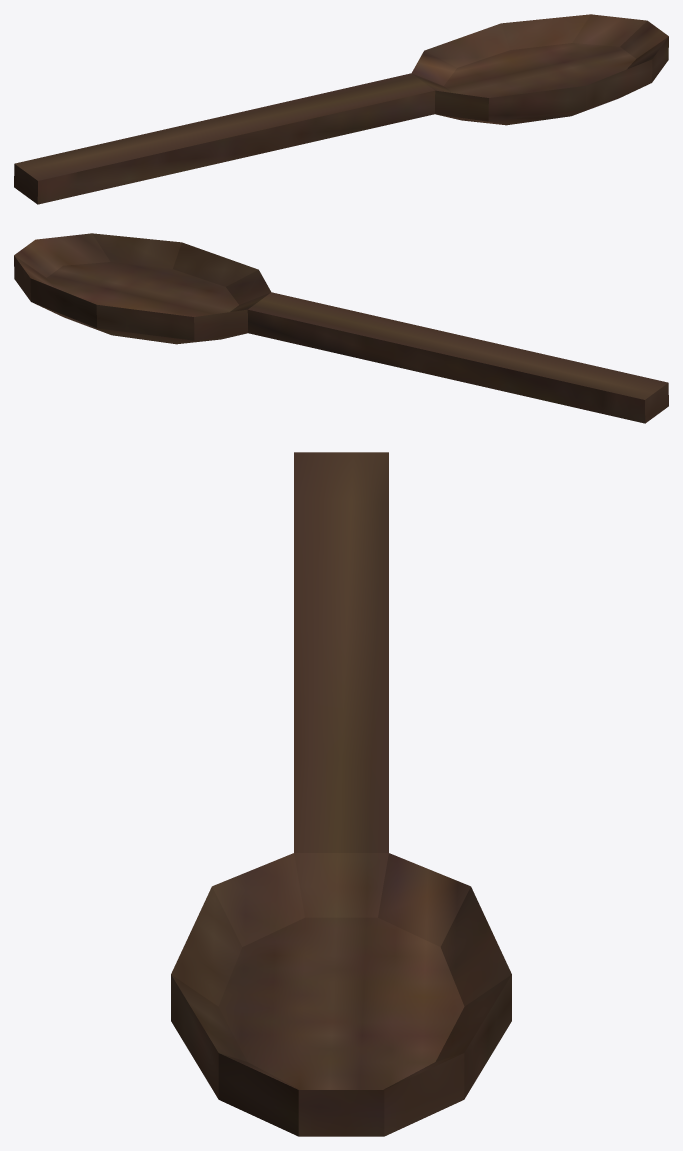
File: Spoon.fbx
The picture shows the model from 3 angles, top to bottom: view 1: azimuth 30°, elevation 25°; view 2: azimuth 150°, elevation 25°; view 3: azimuth 270°, elevation 25°; orthographic projection. The views are drawn at different scales.
Parts seen in each view (by area): view 1: Cube.022; view 2: Cube.022; view 3: Cube.022.
Part boxes in pixels (x1,y1,x2,y2): Cube.022: (14,14,668,204); Cube.022: (14,233,668,423); Cube.022: (171,452,511,1136).
Bounding box in the file's own units: 69.16 × 5.06 × 16.15.
Materials: 1 (1 with a texture image).
